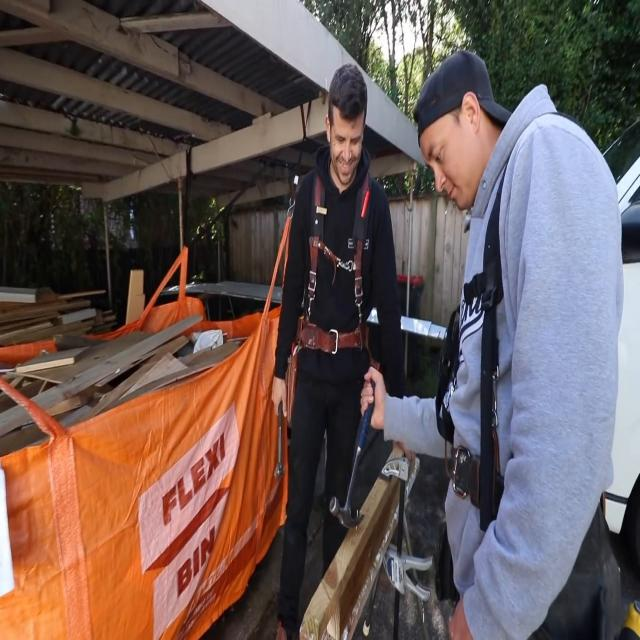hammer: (330, 375, 377, 530), (273, 399, 285, 482)
